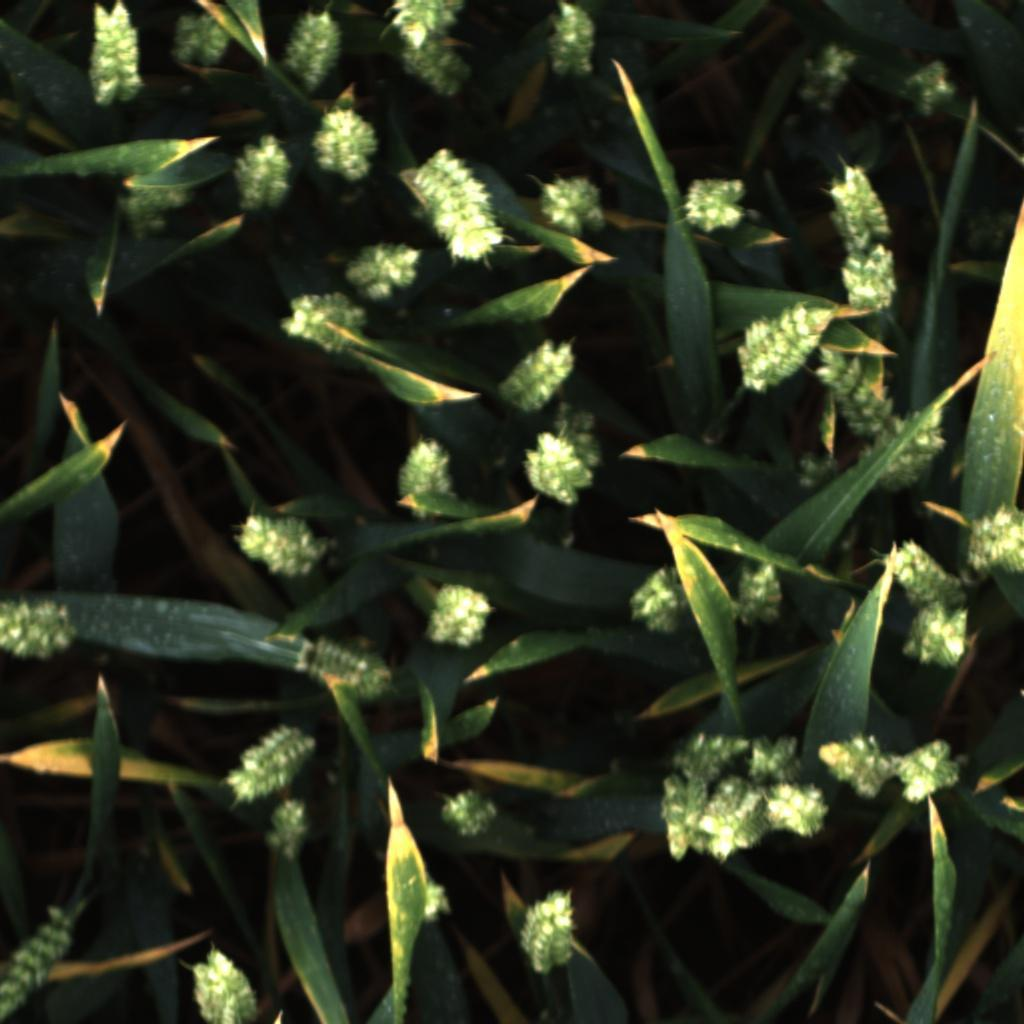0-0: (406, 140, 507, 262), (727, 291, 821, 393), (814, 340, 908, 432), (0, 907, 72, 1024), (80, 0, 149, 114), (227, 721, 316, 806), (302, 628, 393, 706), (512, 883, 586, 978), (869, 401, 945, 493), (829, 160, 898, 260), (182, 939, 263, 1024), (227, 508, 321, 581), (877, 534, 965, 607), (0, 590, 84, 666), (275, 285, 366, 355), (224, 127, 296, 215), (497, 337, 580, 413), (812, 729, 897, 803), (696, 771, 768, 857), (520, 429, 596, 508), (275, 8, 344, 94), (533, 171, 614, 244), (425, 577, 500, 653), (311, 106, 382, 185), (897, 603, 981, 669), (347, 233, 422, 303), (392, 437, 458, 516), (655, 767, 708, 864), (837, 241, 907, 314), (964, 493, 1024, 577), (897, 732, 966, 803), (671, 726, 754, 784), (626, 565, 689, 641), (676, 172, 750, 236), (794, 43, 858, 114), (383, 0, 467, 54), (169, 9, 236, 76), (898, 52, 964, 118), (763, 783, 833, 845), (403, 37, 474, 98), (732, 556, 790, 630), (544, 2, 599, 79), (261, 796, 319, 866), (744, 721, 802, 788), (439, 787, 500, 845), (409, 870, 453, 930), (123, 172, 195, 208), (116, 193, 168, 240), (793, 447, 839, 497), (550, 401, 596, 441), (565, 431, 608, 470)
